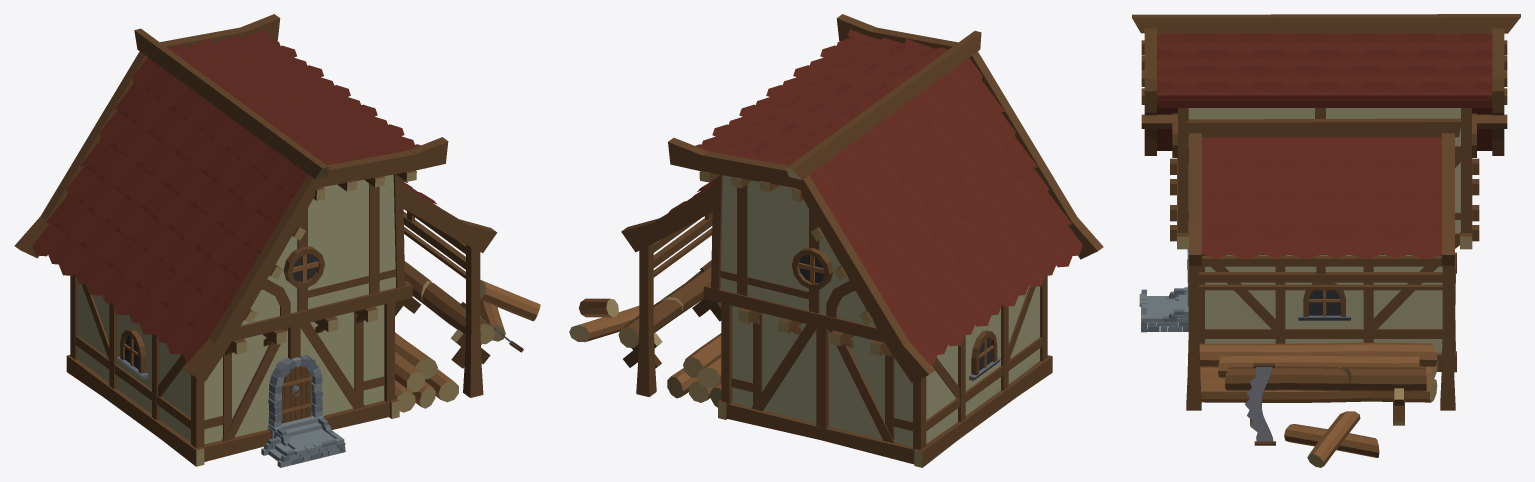
File: Q_Sawmill.glb
The picture shows the model from 3 angles, left to right: view 1: azimuth 30°, elevation 25°; view 2: azimuth 150°, elevation 25°; view 3: azimuth 270°, elevation 25°; orthographic projection. The views are drawn at different scales.
Parts seen in each view (by area): view 1: Sawmill; view 2: Sawmill; view 3: Sawmill.
Boxes of the visible parts, x1,y1,x2,y2 form: Sawmill: [14, 14, 540, 467]; Sawmill: [569, 14, 1103, 467]; Sawmill: [1132, 14, 1520, 467].
Bounding box in the file's own units: 4.4 × 2.86 × 3.28.
